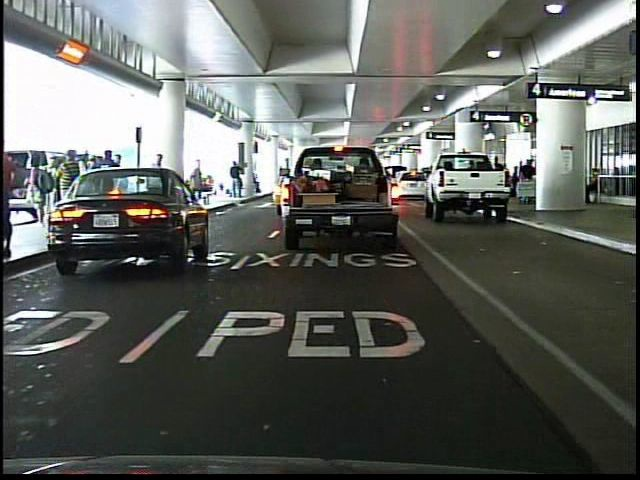person: (146, 150, 170, 223), (189, 156, 210, 223), (229, 161, 247, 200)
